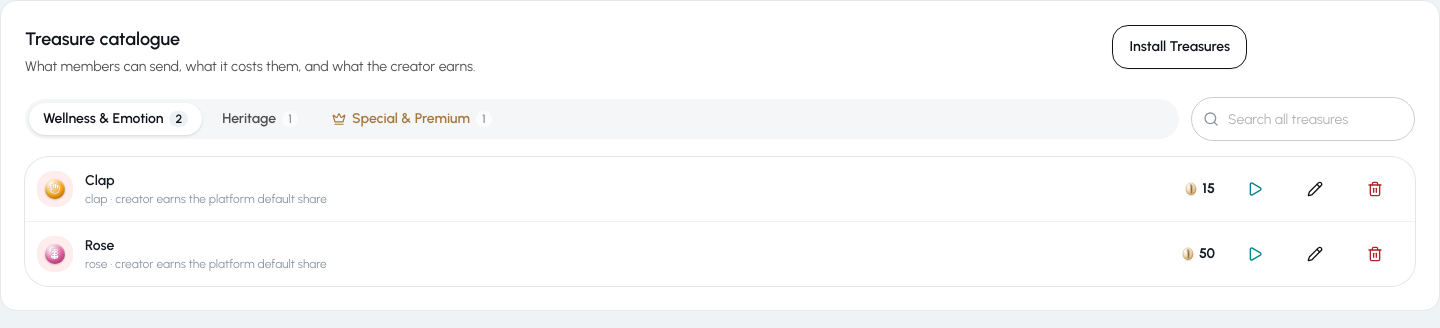
Scenario: the catalogue › searches across every set
This screenshot has width=1440, height=328.
Expected: the text "Rose" is shown, [85,237,114,254]
Type "bouq" into the field labelled "Search all treasures" at (1303, 119), box [1191,97,1415,141]
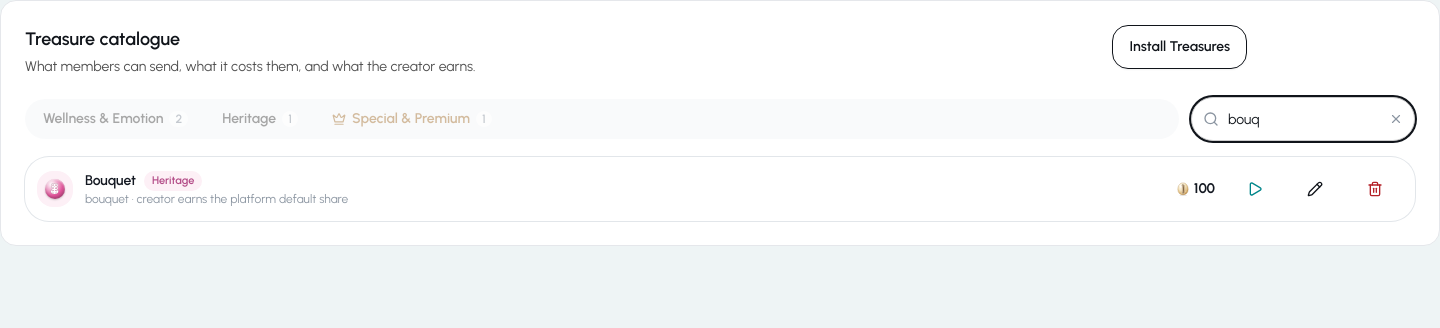
Expected: the text "Bouquet" is shown, [85,172,136,189]
Expected: the text "Rose" is gone
